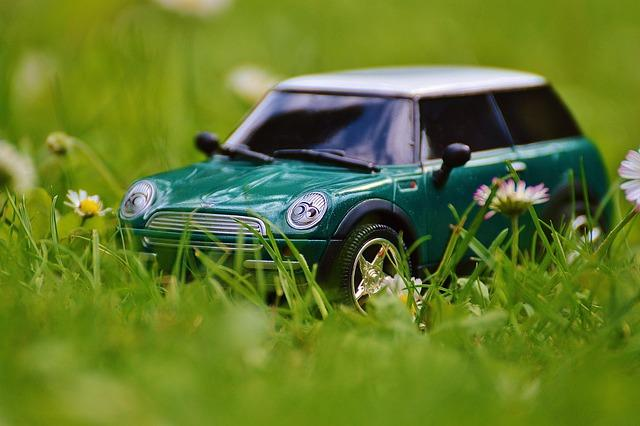Non_Gorille: (63, 20, 612, 368)
